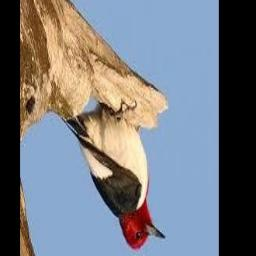Woodpecker: (66, 109, 165, 250)
